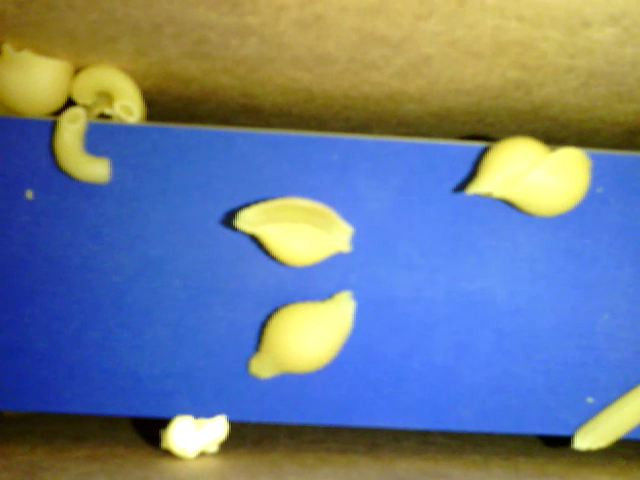elbow: (52, 105, 111, 188), (70, 64, 140, 120)
penne: (573, 379, 639, 453)
shell: (462, 136, 594, 219), (245, 289, 358, 381), (232, 195, 355, 268), (1, 45, 76, 117)
